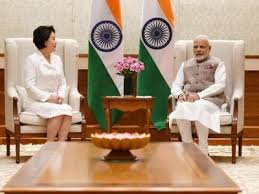Good: (21, 23, 227, 132)
